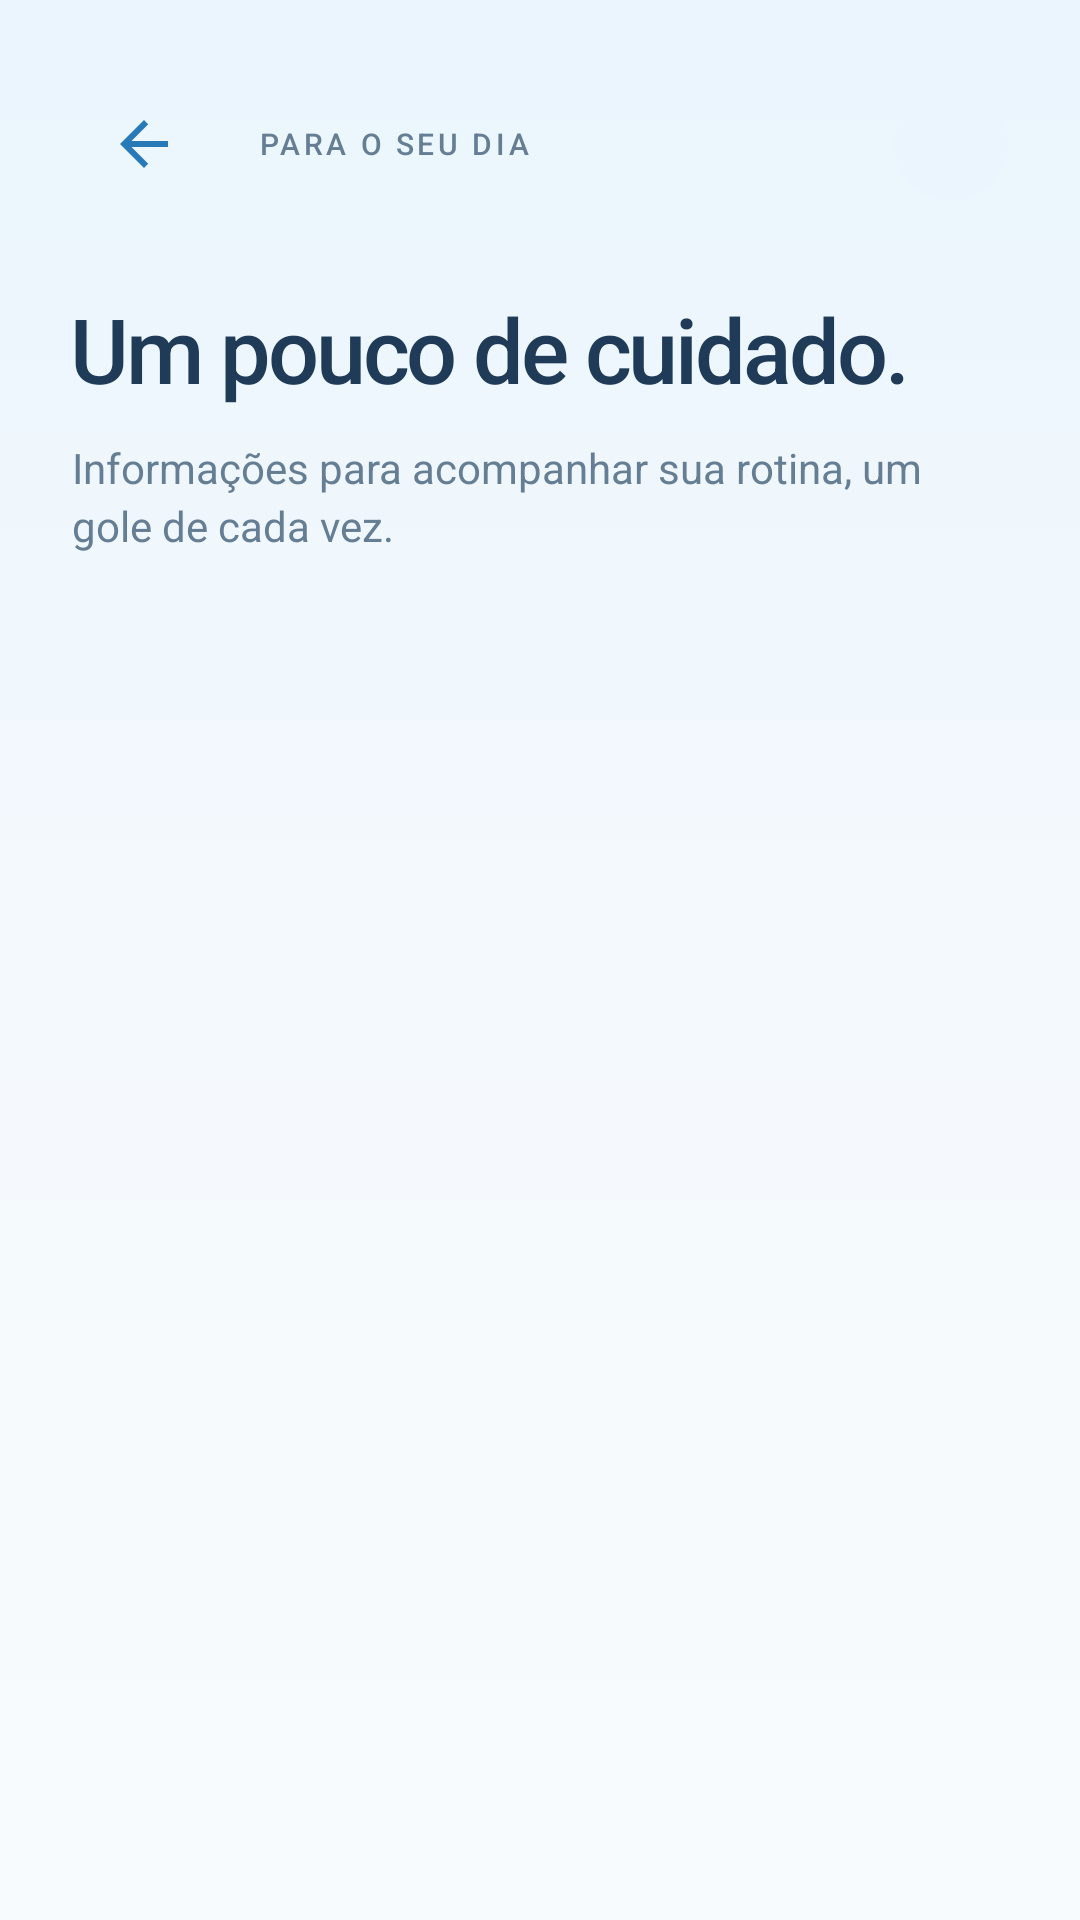

Where to tap for icons on this 1080 × 1920 app screen, as (x=x, y=y):
Voltar: (x=144, y=144)
